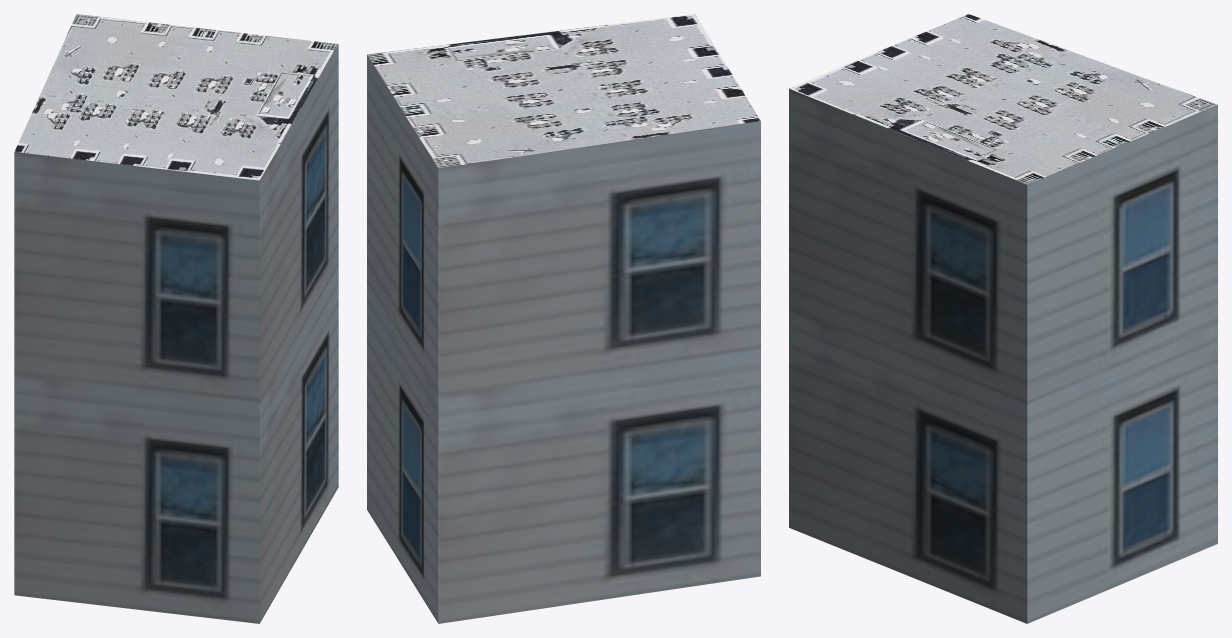
Rendered from ResTex__5078.fbx.
3 views of the same model, side by side, from view 1: azimuth 30°, elevation 25°; view 2: azimuth 150°, elevation 25°; view 3: azimuth 270°, elevation 25° (orthographic). The views are drawn at different scales.
Parts seen in each view (by area): view 1: CityEngineMaterial_18_m, CityEngineMaterial_4_m; view 2: CityEngineMaterial_18_m, CityEngineMaterial_4_m; view 3: CityEngineMaterial_18_m, CityEngineMaterial_4_m.
Boxes of the visible parts, x1=… form: CityEngineMaterial_18_m: x1=14, y1=44, x2=338, y2=623; CityEngineMaterial_4_m: x1=14, y1=14, x2=338, y2=180; CityEngineMaterial_18_m: x1=367, y1=55, x2=760, y2=623; CityEngineMaterial_4_m: x1=367, y1=14, x2=760, y2=168; CityEngineMaterial_18_m: x1=789, y1=89, x2=1217, y2=623; CityEngineMaterial_4_m: x1=789, y1=14, x2=1217, y2=184.
Bounding box in the file's own units: 5.01 × 6 × 5.31.
Materials: 2 (2 with a texture image).
